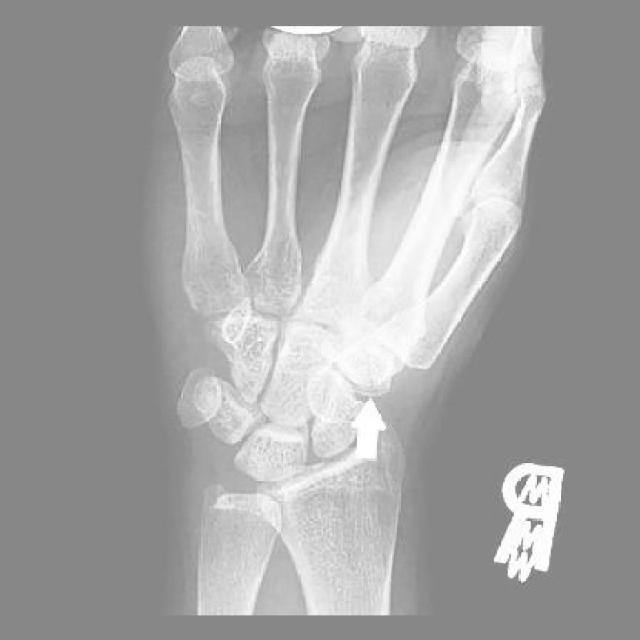Fracture: (346, 337, 397, 386)
